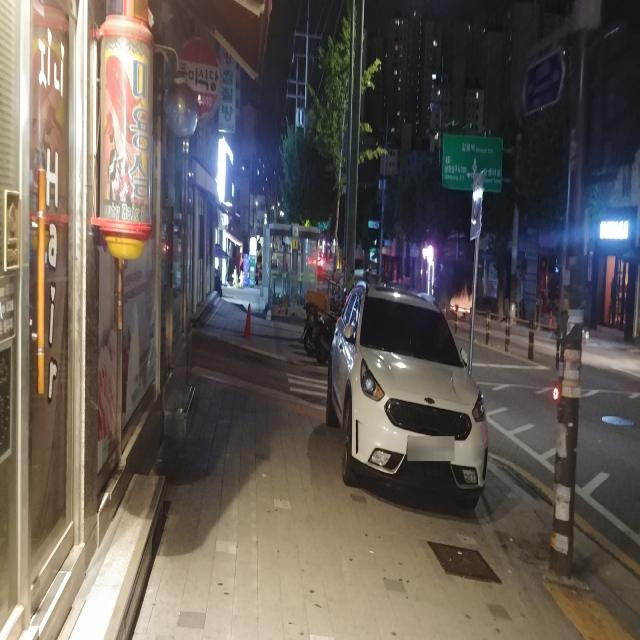횡단보도: (286, 372, 328, 398)
